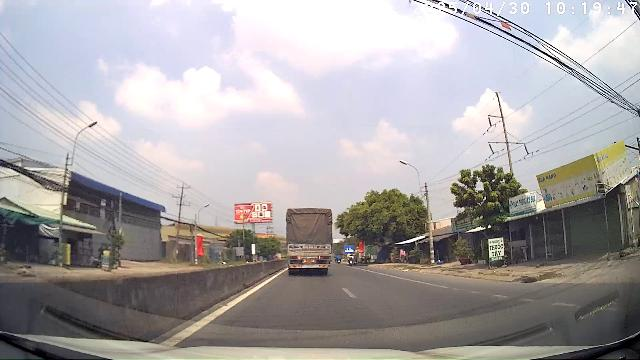420-bat-dau-khu-dong-dan-cu: (344, 246, 354, 252)
